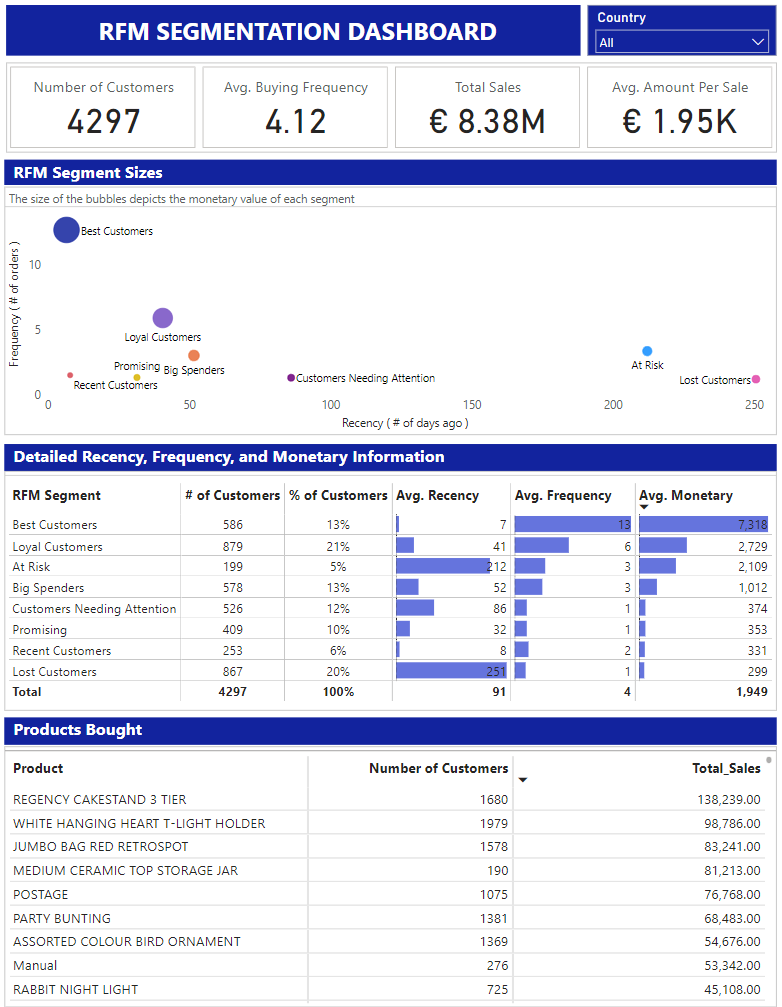

What the dashboard file says about the page in this screenshot:
{"tool":"powerbi","page":{"name":"Page 1","canvas":[1100,1400],"ordinal":0},"visuals":[{"type":"shape","box":[12.5,997.5,1072.5,37.5],"z":0},{"type":"shape","box":[12.5,616.2,1072.5,37.5],"z":1000},{"type":"shape","box":[12.5,221.2,1072.5,35],"z":2000},{"type":"cardVisual","fields":{"Data":["CountNonNull(RFM_Segmentation.CustomerID)","Avg(RFM_Segmentation.Frequency)","Sum(RFM_Segmentation.Monetary)","Measures_.Average Price Per Sale"]},"box":[15,87.5,1070,125],"z":3000},{"type":"scatterChart","fields":{"X":["Avg(RFM_Segmentation.Recency)"],"Y":["Avg(RFM_Segmentation.Frequency)"],"Series":["RFM_Segmentation.rfm_segment"],"Size":["Avg(RFM_Segmentation.Monetary)"]},"box":[12.5,258.8,1072.5,345],"z":4000},{"type":"pivotTable","fields":{"Rows":["RFM_Segmentation.rfm_segment"],"Values":["CountNonNull(RFM_Segmentation.CustomerID)","Sum(RFM_Segmentation.Percent of Customers)","Avg(RFM_Segmentation.databar_rec)","Avg(RFM_Segmentation.databar_freq)","Avg(RFM_Segmentation.databar_mon)"]},"box":[12.5,653.8,1072.5,332.5],"z":5000},{"type":"tableEx","fields":{"Values":["Product.Product","Sum(Product.Number_of_Customers)","Sum(Product.Total_Sales)"]},"box":[12.5,1037.5,1072.5,362.5],"z":6000},{"type":"slicer","fields":{"Values":["RFM_Segmentation.Country"]},"box":[822.5,7.5,262.5,70],"z":7000},{"type":"shape","box":[15,7.5,797.5,70],"z":8000}]}

Visuals, with their boxes in screenshot pixels (x1, y1, x2, y2), scaled from the page's 1100x1400 canvas onto the 782x1007 screenshot:
shape: region(9, 717, 771, 744)
shape: region(9, 443, 771, 470)
shape: region(9, 159, 771, 184)
cardVisual - CountNonNull(RFM_Segmentation.CustomerID) x Avg(RFM_Segmentation.Frequency): region(11, 63, 771, 153)
scatterChart - Avg(RFM_Segmentation.Recency) x Avg(RFM_Segmentation.Frequency): region(9, 186, 771, 434)
pivotTable - RFM_Segmentation.rfm_segment x CountNonNull(RFM_Segmentation.CustomerID): region(9, 470, 771, 709)
tableEx - Product.Product x Sum(Product.Number_of_Customers): region(9, 746, 771, 1006)
slicer - RFM_Segmentation.Country: region(585, 5, 771, 56)
shape: region(11, 5, 578, 56)
